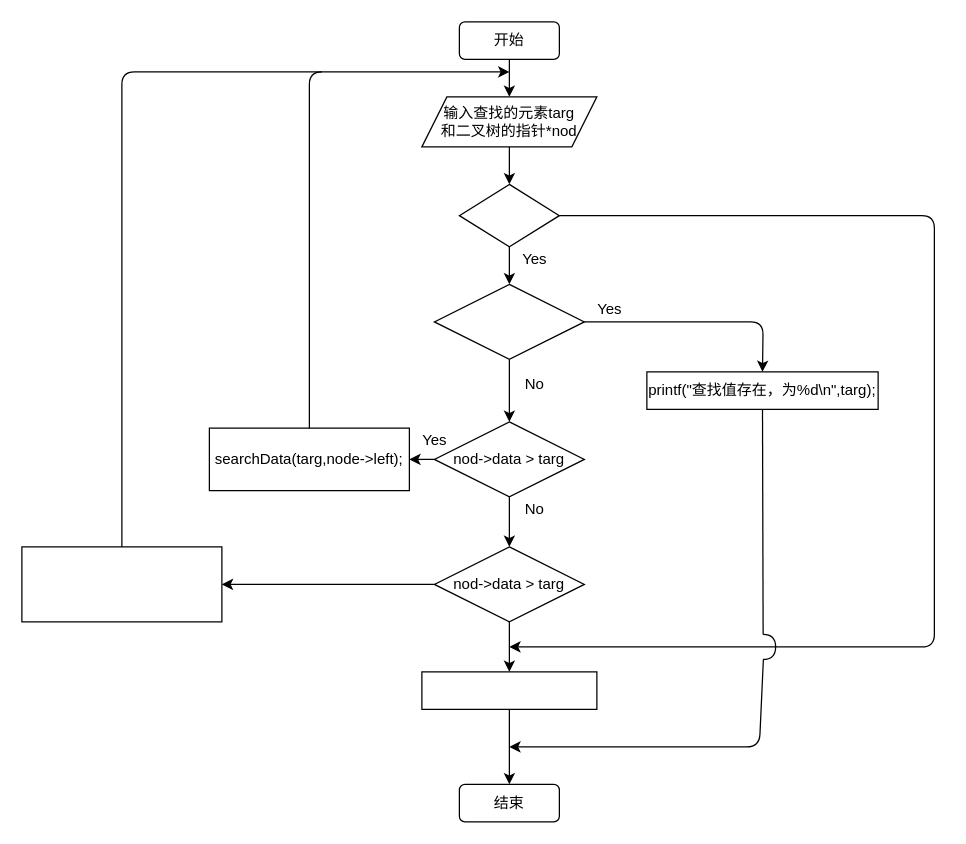
Some shapes in this 966 by 844 pixel diagram are drawn without their labels. Here are the shapes that lost their labels. From the top down, the box of each, then its label:
(458, 183, 559, 247): nod != NULL
(433, 283, 584, 359): nod->data == targ
(21, 546, 222, 622): SearchData(targ,nod->right)
(421, 671, 597, 709): printd("查找值不存在\n");
